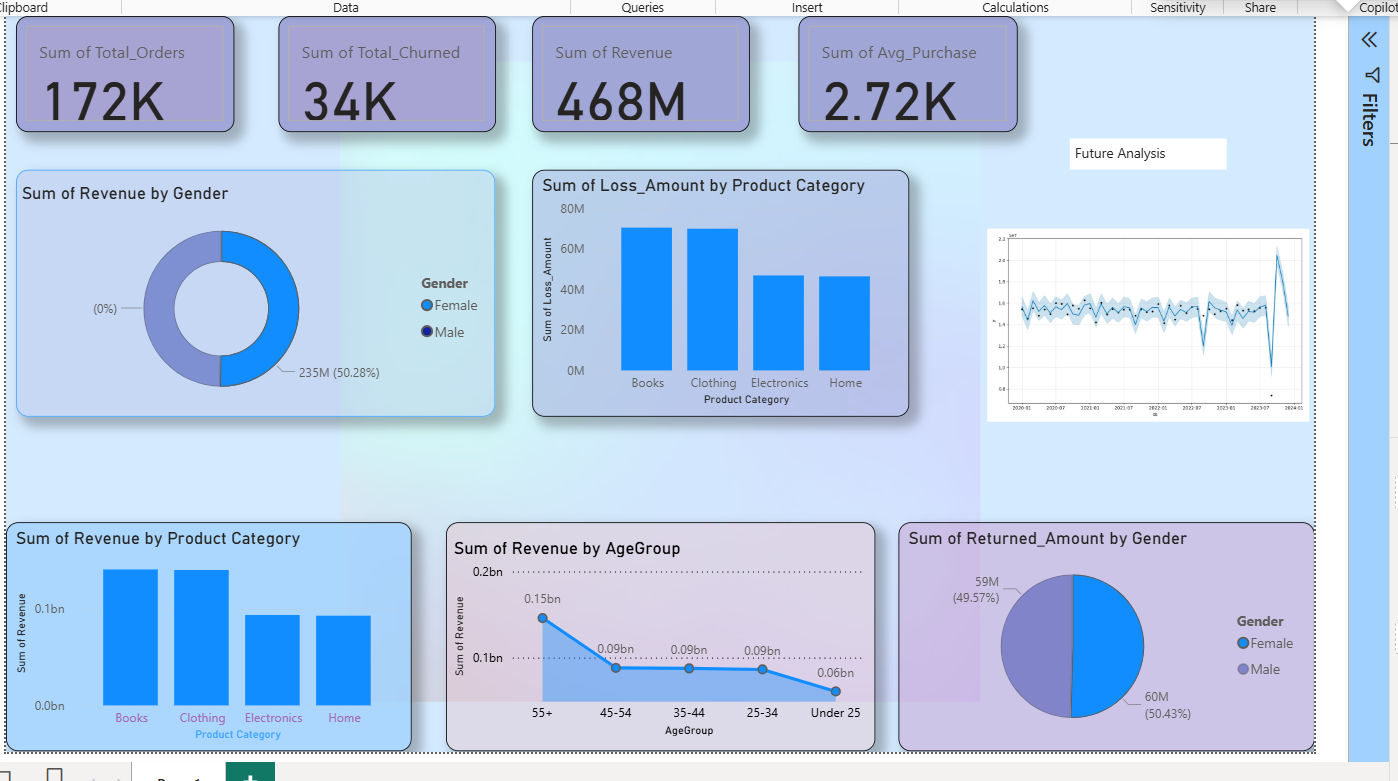

The dashboard page shown, as its layout file describes it:
{"tool":"powerbi","page":{"name":"Page 1","canvas":[1280,720],"ordinal":0},"visuals":[{"type":"columnChart","fields":{"Category":["PUARCHE BY product.Product Category"],"Y":["Sum(PUARCHE BY product.Revenue)"]},"box":[0,495.7,397.1,224.3],"z":0},{"type":"donutChart","fields":{"Category":["revenve generated by gender.Gender"],"Y":["Sum(revenve generated by gender.Revenue)"]},"box":[10,150,468.6,241.4],"z":1000},{"type":"lineChart","fields":{"Category":["revenue by age.AgeGroup"],"Y":["Sum(revenue by age.Revenue)"]},"box":[430,495.7,420,224.3],"z":2000},{"type":"cardVisual","fields":{"Data":["Sum(AVG PURCHASE.Avg_Purchase)"]},"box":[775.3,0,214.1,113.9],"z":3000},{"type":"cardVisual","fields":{"Data":["Sum(PUARCHE BY product.Revenue)"]},"box":[514.6,0,212.7,113.9],"z":4000},{"type":"cardVisual","fields":{"Data":["Sum(total revenue.Total_Orders)"]},"box":[10,0,213.8,113.8],"z":5000},{"type":"cardVisual","fields":{"Data":["Sum(churn customer.Total_Churned)"]},"box":[266.2,0,212.7,113.9],"z":6000},{"type":"pieChart","fields":{"Category":["return by gender.Gender"],"Y":["Sum(return by gender.Returned_Amount)"]},"box":[872.9,495.7,407.1,224.3],"z":6001},{"type":"columnChart","fields":{"Category":["lose.Product Category"],"Y":["Sum(lose.Loss_Amount)"]},"box":[514.3,150,368.6,241.4],"z":6002},{"type":"image","box":[896.4,71.8,383.6,398.2],"z":6003},{"type":"textbox","box":[1040.9,120,153.6,30],"z":6004}]}

Visuals, with their boxes in screenshot pixels (x1, y1, x2, y2):
columnChart - PUARCHE BY product.Product Category x Sum(PUARCHE BY product.Revenue): 0, 520, 403, 752
donutChart - revenve generated by gender.Gender x Sum(revenve generated by gender.Revenue): 3, 162, 488, 412
lineChart - revenue by age.AgeGroup x Sum(revenue by age.Revenue): 437, 520, 872, 752
cardVisual - Sum(AVG PURCHASE.Avg_Purchase): 794, 7, 1016, 125
cardVisual - Sum(PUARCHE BY product.Revenue): 525, 7, 745, 125
cardVisual - Sum(total revenue.Total_Orders): 3, 7, 224, 125
cardVisual - Sum(churn customer.Total_Churned): 268, 7, 488, 125
pieChart - return by gender.Gender x Sum(return by gender.Returned_Amount): 895, 520, 1316, 752
columnChart - lose.Product Category x Sum(lose.Loss_Amount): 525, 162, 906, 412
image: 920, 82, 1316, 493
textbox: 1069, 131, 1228, 162
